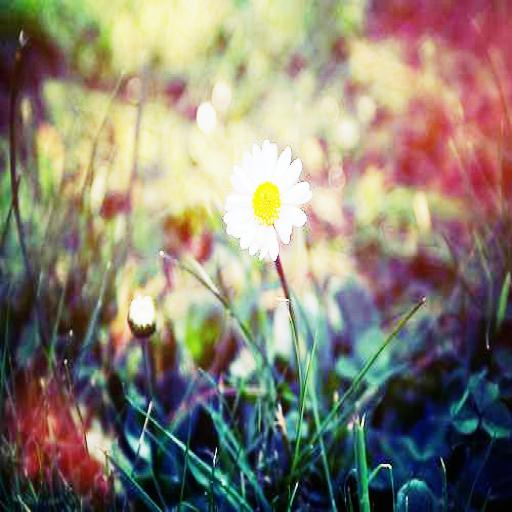daisy: (226, 142, 308, 245), (126, 288, 157, 330)
